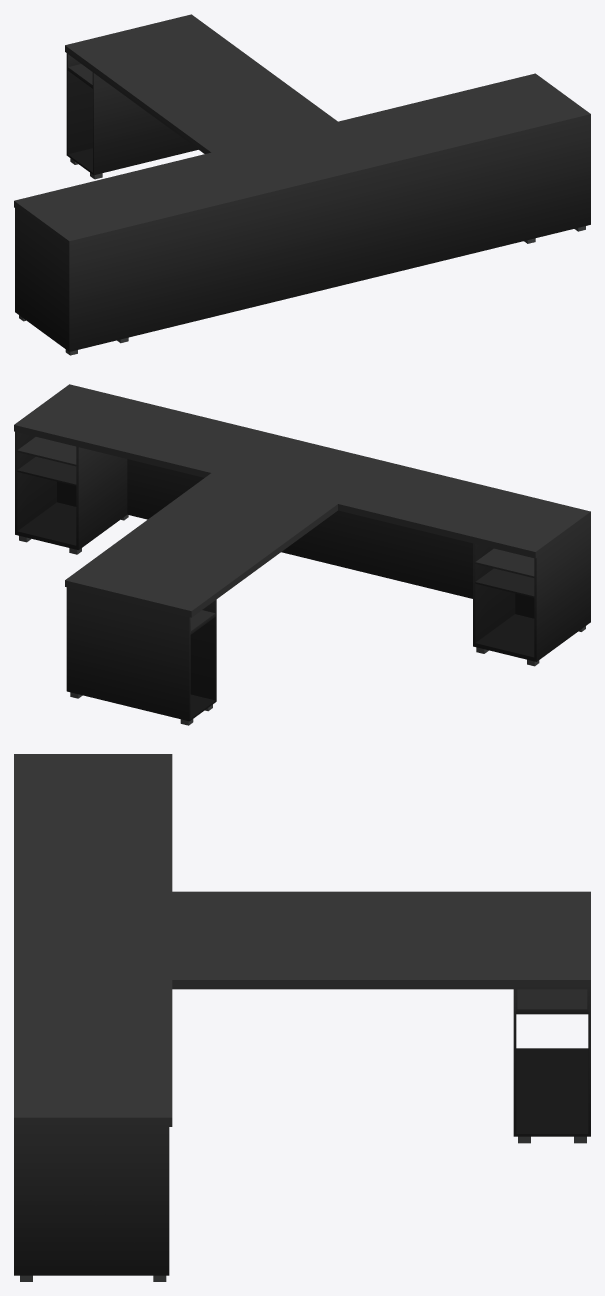
File: Desk_Joined_C_Open_Black.fbx
The picture shows the model from 3 angles, top to bottom: view 1: azimuth 30°, elevation 25°; view 2: azimuth 150°, elevation 25°; view 3: azimuth 270°, elevation 25°; orthographic projection. The views are drawn at different scales.
Parts seen in each view (by area): view 1: Desk_Joined_C_Open_Black; view 2: Desk_Joined_C_Open_Black; view 3: Desk_Joined_C_Open_Black.
Part boxes in pixels (x1,y1,x2,y2): Desk_Joined_C_Open_Black: (14, 14, 590, 355); Desk_Joined_C_Open_Black: (14, 384, 590, 725); Desk_Joined_C_Open_Black: (14, 754, 590, 1281).
Bounding box in the file's own units: 328 × 70 × 220.
